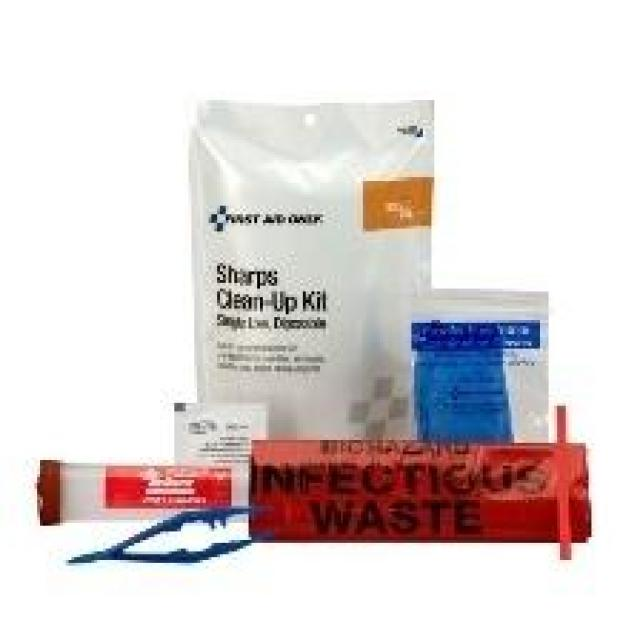syringe: (31, 431, 597, 572)
